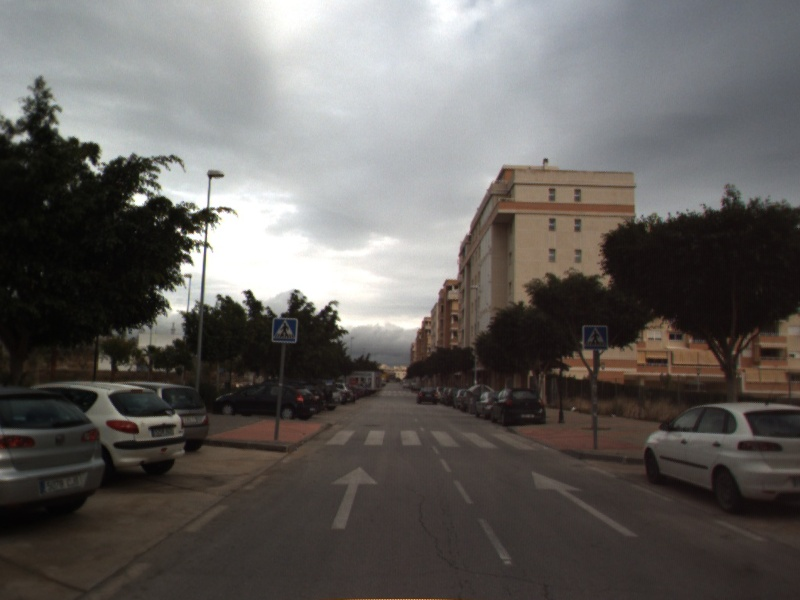STRAIGHT: (530, 469, 641, 539), (329, 464, 380, 531)
